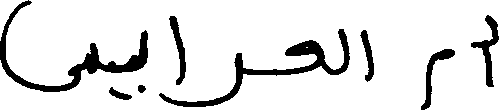أ: (478, 13, 497, 87)
ا: (167, 13, 186, 83), (358, 27, 375, 82)
ر: (189, 50, 243, 107)
س: (0, 0, 105, 92)
ع: (284, 37, 324, 75)
ل: (335, 26, 350, 75)
م: (421, 47, 455, 108)
ي: (110, 29, 147, 100)
